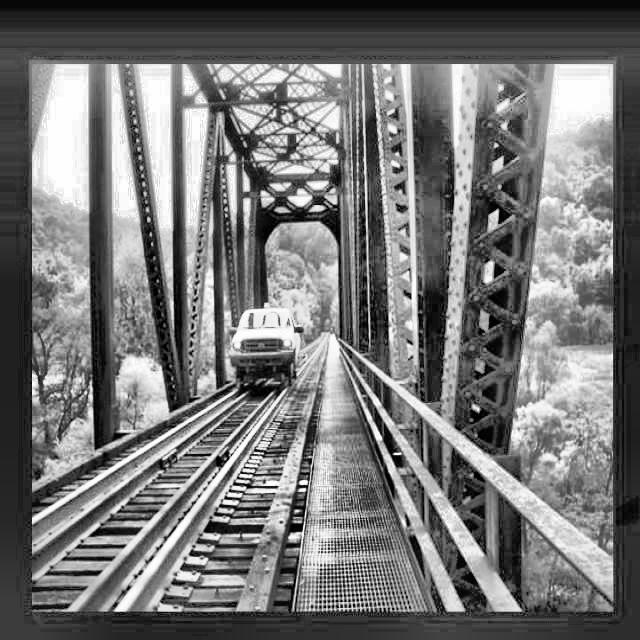Car: (217, 279, 311, 400)
